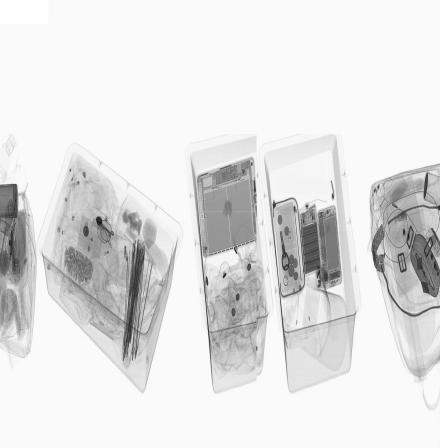Powerbank: (298, 201, 323, 278)
